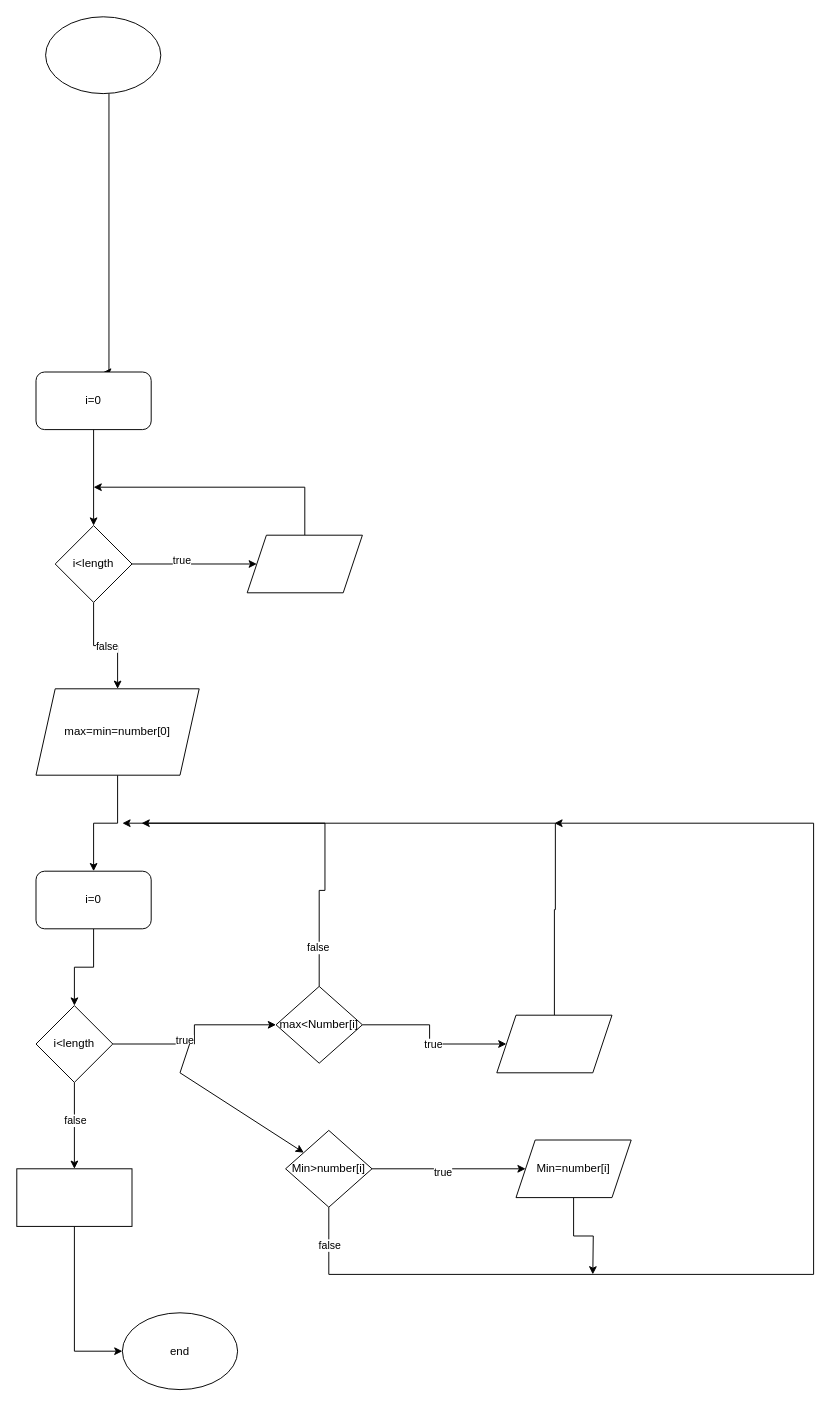
Image size: 838x1406. Some labels were removed from this diagram. The centre of each missing label's shape, as x and y in pixels:
Max =number[i]: the point at 554,1043
max min: the point at 74,1197
number[i] i++: the point at 304,563
start: the point at 103,55
